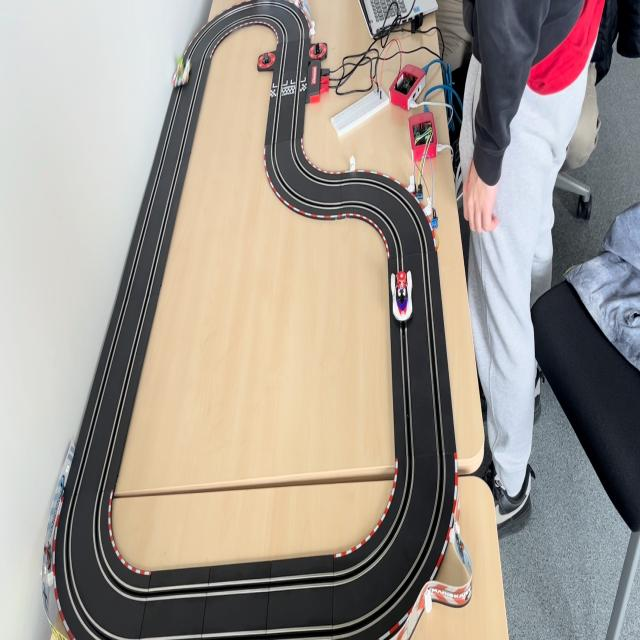mario: (388, 268, 416, 324)
yoshi: (170, 55, 193, 87)
